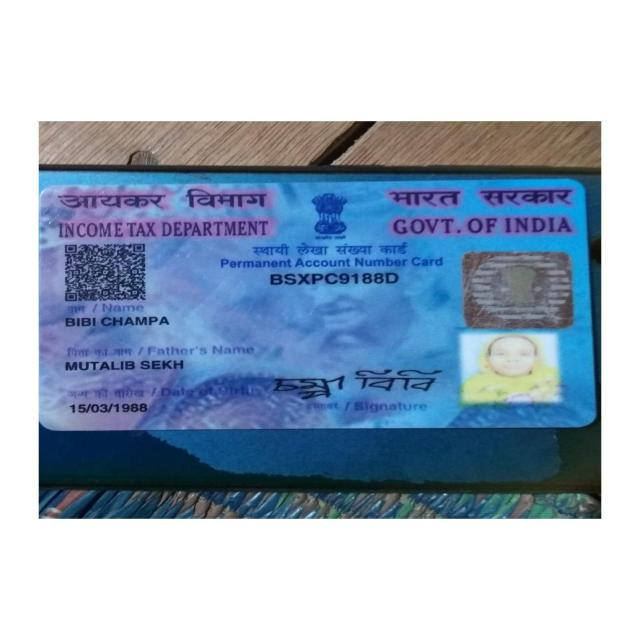pan_card: (40, 182, 592, 429)
